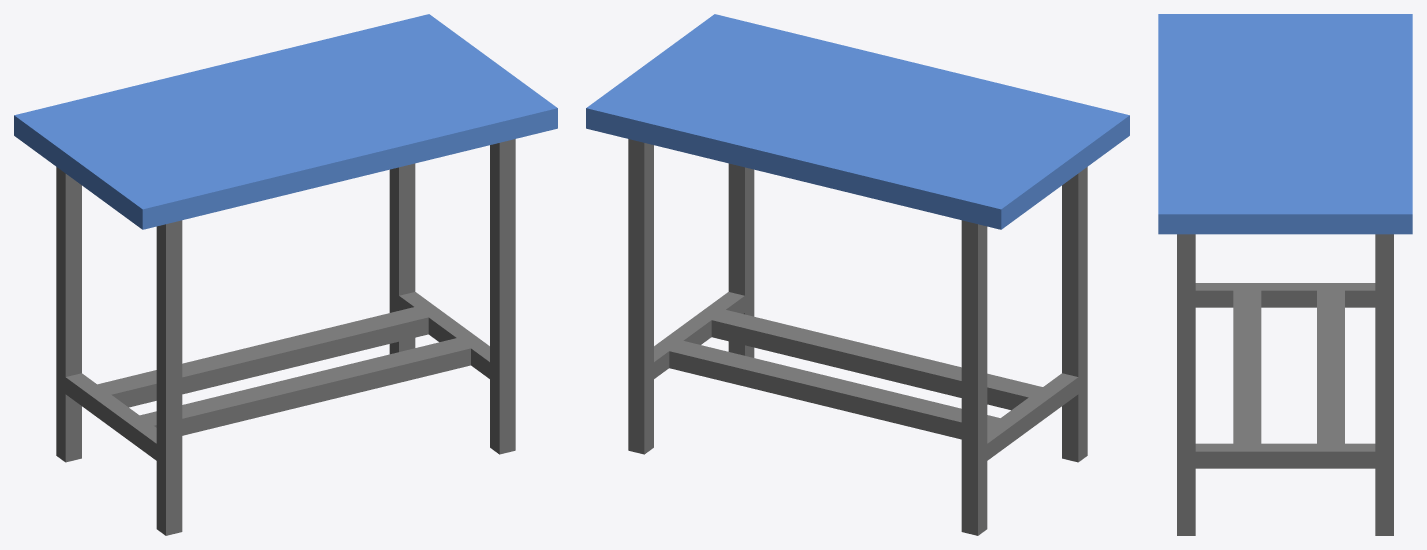
3 renders of one model, left to right at view 1: azimuth 30°, elevation 25°; view 2: azimuth 150°, elevation 25°; view 3: azimuth 270°, elevation 25°, orthographic.
Parts seen in each view (by area): view 1: M-30-60cm; view 2: M-30-60cm; view 3: M-30-60cm.
Boxes of the visible parts, left/top/right/bottom form: M-30-60cm: left=14, top=14, right=557, bottom=535; M-30-60cm: left=586, top=14, right=1129, bottom=535; M-30-60cm: left=1158, top=14, right=1412, bottom=535.
Size of the model in its own units: 63.62 by 50 by 34.14.
